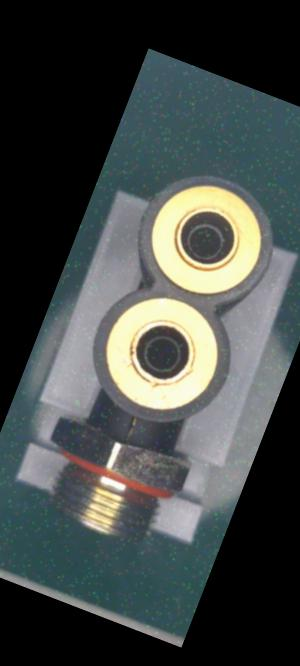craze: (114, 410, 142, 450)
